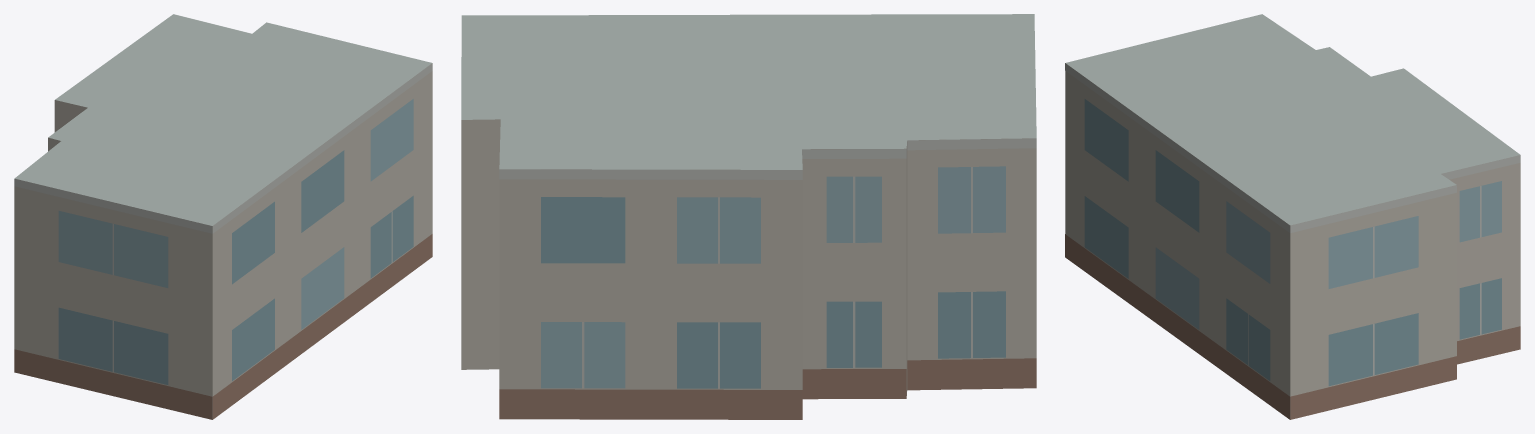
File: survey-upis-32661967.glb
The picture shows the model from 3 angles, left to right: view 1: azimuth 30°, elevation 25°; view 2: azimuth 150°, elevation 25°; view 3: azimuth 270°, elevation 25°; orthographic projection. The views are drawn at different scales.
Parts seen in each view (by area): view 1: survey-upis-32661967.tmp; view 2: survey-upis-32661967.tmp; view 3: survey-upis-32661967.tmp.
Part boxes in pixels (x1=…): survey-upis-32661967.tmp: x1=14, y1=14, x2=432, y2=419; survey-upis-32661967.tmp: x1=461, y1=14, x2=1036, y2=419; survey-upis-32661967.tmp: x1=1065, y1=14, x2=1520, y2=419.
Bounding box in the file's own units: 14.24 × 6.1 × 12.96.
